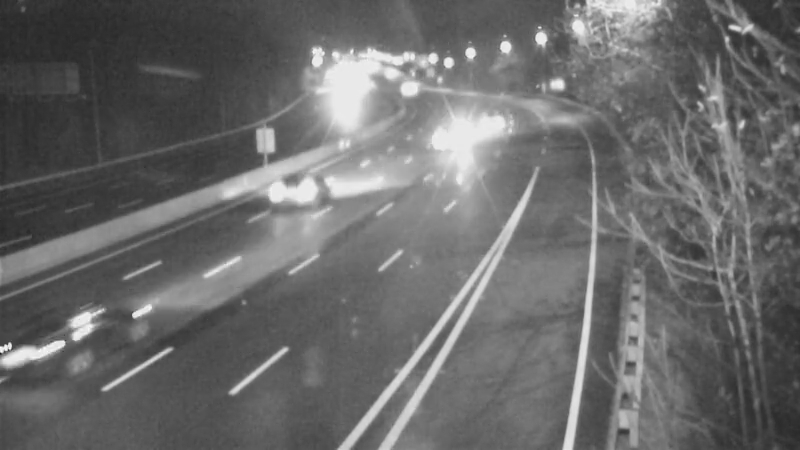vehicle: (1, 294, 98, 404), (270, 152, 350, 232), (384, 59, 434, 109), (462, 98, 512, 148), (424, 110, 474, 160)
